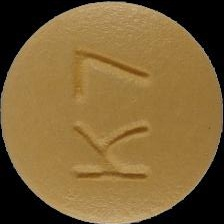43063-516: (0, 0, 224, 224)
